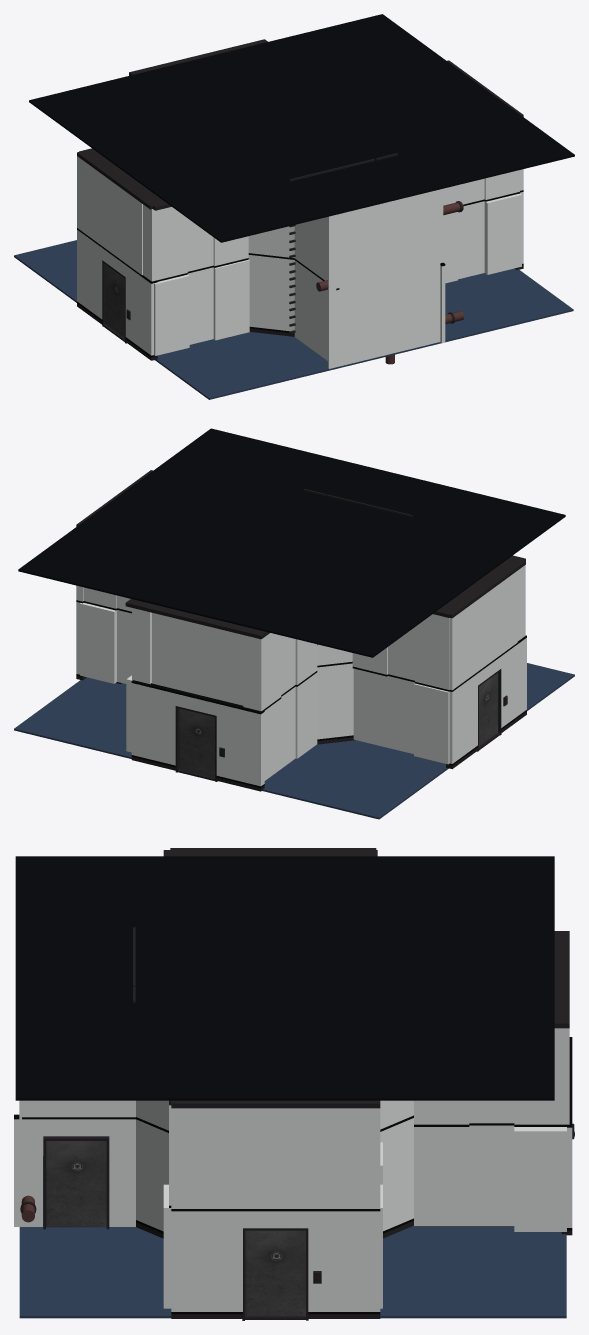
Rendered from SCP 3 Way.obj.
3 renders of one model, top to bottom at view 1: azimuth 30°, elevation 25°; view 2: azimuth 150°, elevation 25°; view 3: azimuth 270°, elevation 25°, orthographic. The views are drawn at different scales.
Parts seen in each view (by area): view 1: Part46, Part48, Part47, Part79, Part104, Part311, Part24, Part294, Part110, Part309, Part320, Part34 (+13 smaller); view 2: Part46, Part47, Wedge2, Part79, Part7, Part10, Part162, Part300, Part100, Part325, Part116, Part327 (+20 smaller); view 3: Part46, Part47, Part87, Part89, Part82, Part251, Part146, Door9, Door6, Part150, Part274, Part266 (+17 smaller).
Part boxes in pixels (x1,y1,x2,y2): Part46: [29, 14, 574, 242]; Part48: [328, 189, 443, 368]; Part47: [14, 240, 573, 399]; Part79: [77, 156, 142, 274]; Part104: [248, 255, 294, 331]; Part311: [143, 204, 187, 281]; Part24: [294, 260, 339, 367]; Part294: [484, 193, 521, 274]; Part110: [213, 259, 249, 340]; Part309: [154, 274, 189, 355]; Part320: [125, 265, 153, 355]; Part34: [294, 214, 339, 288]; Part46: [18, 428, 565, 657]; Part47: [14, 663, 574, 819]; Wedge2: [152, 613, 243, 705]; Part79: [449, 571, 517, 690]; Part7: [216, 704, 264, 786]; Part10: [131, 683, 175, 765]; Part162: [243, 633, 281, 711]; Part300: [80, 603, 116, 683]; Part100: [317, 663, 353, 739]; Part325: [414, 683, 449, 764]; Part116: [353, 668, 387, 747]; Part327: [415, 614, 449, 689]; Part46: [15, 856, 554, 1100]; Part47: [19, 1156, 566, 1318]; Part87: [171, 1108, 380, 1208]; Part89: [308, 1211, 380, 1311]; Part82: [171, 1211, 242, 1311]; Part251: [414, 1127, 469, 1226]; Part146: [514, 1127, 566, 1231]; Door9: [46, 1141, 106, 1227]; Door6: [245, 1230, 305, 1315]; Part150: [469, 1125, 514, 1224]; Part274: [380, 1118, 413, 1231]; Part266: [136, 1119, 168, 1231].
Size of the model in its own units: 46.15 by 19.94 by 42.46.
15 materials, 3 textured.
